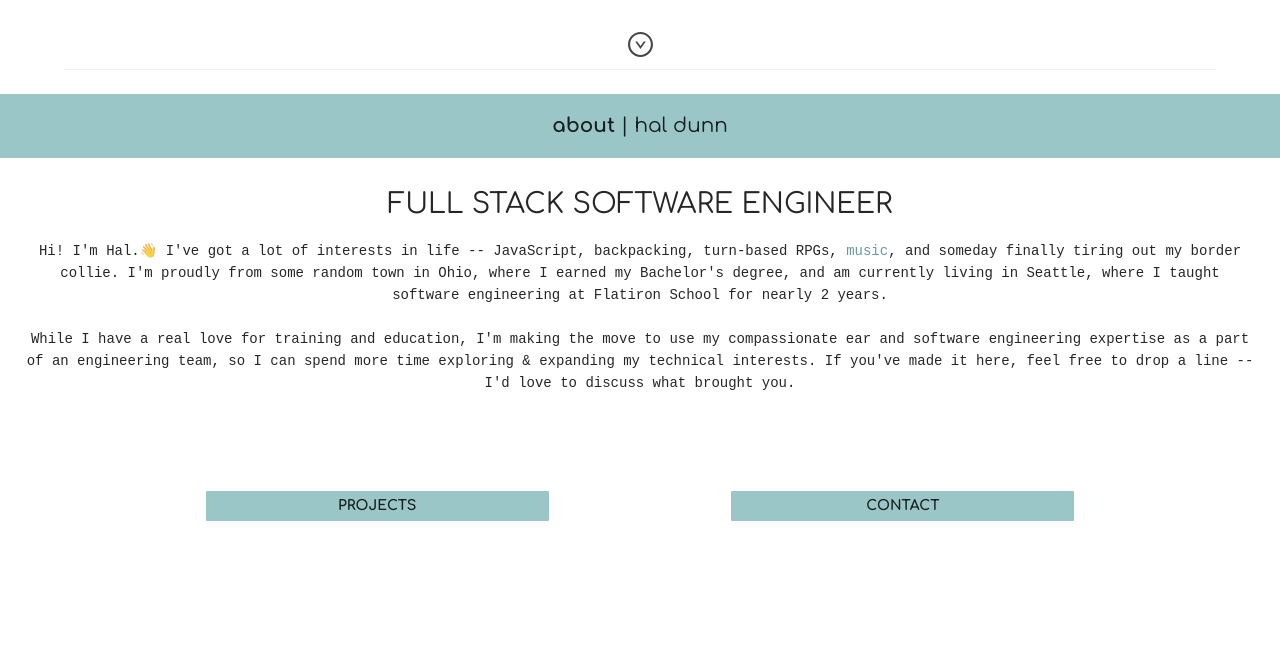
Test: Site Navigation Tests › Menu expands on click
Click the picture with test id "open-menu". click: (640, 44)
box: [628,32,652,57]
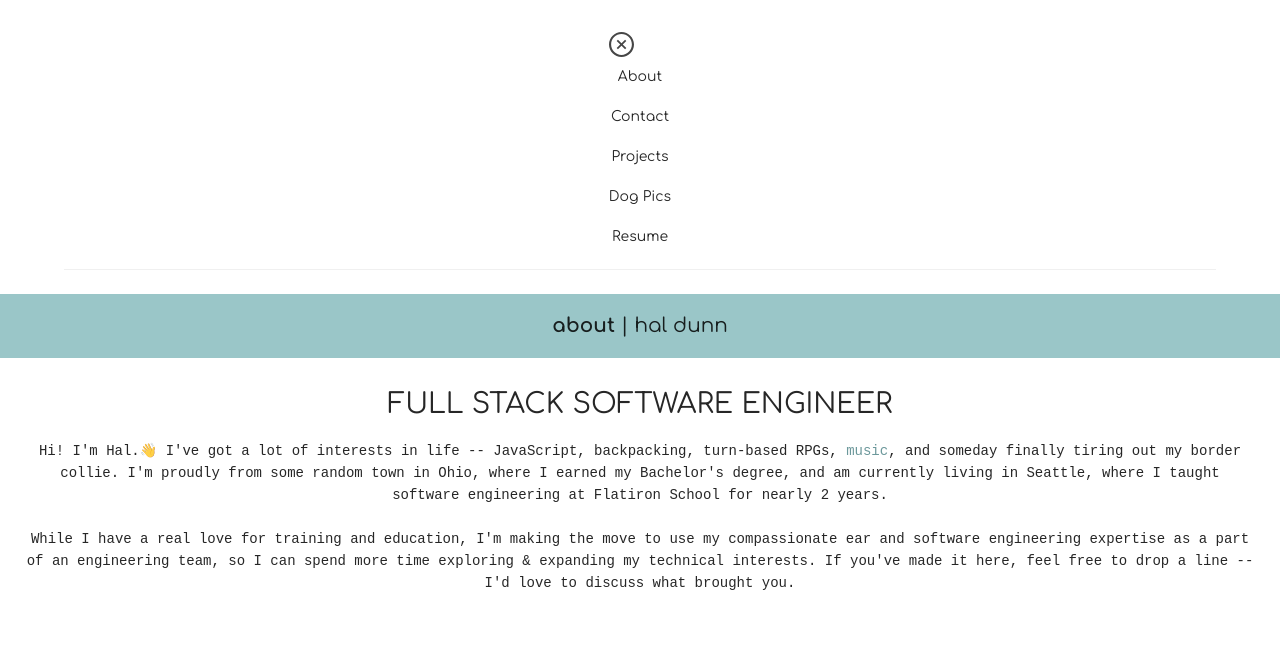
Expected: the link "Resume" is shown, [612,229,668,244]
